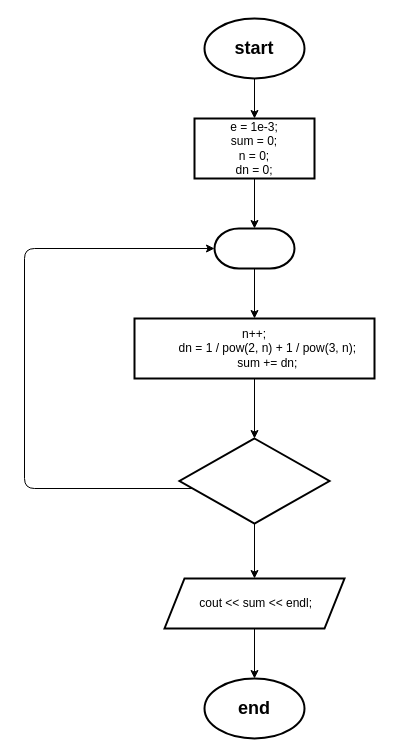
This 393x756 diagram has some shape labels left out. Each missing label, with the centre of its shape:
"do" goes at point (254, 248).
"while (dn > e);" goes at point (254, 480).
